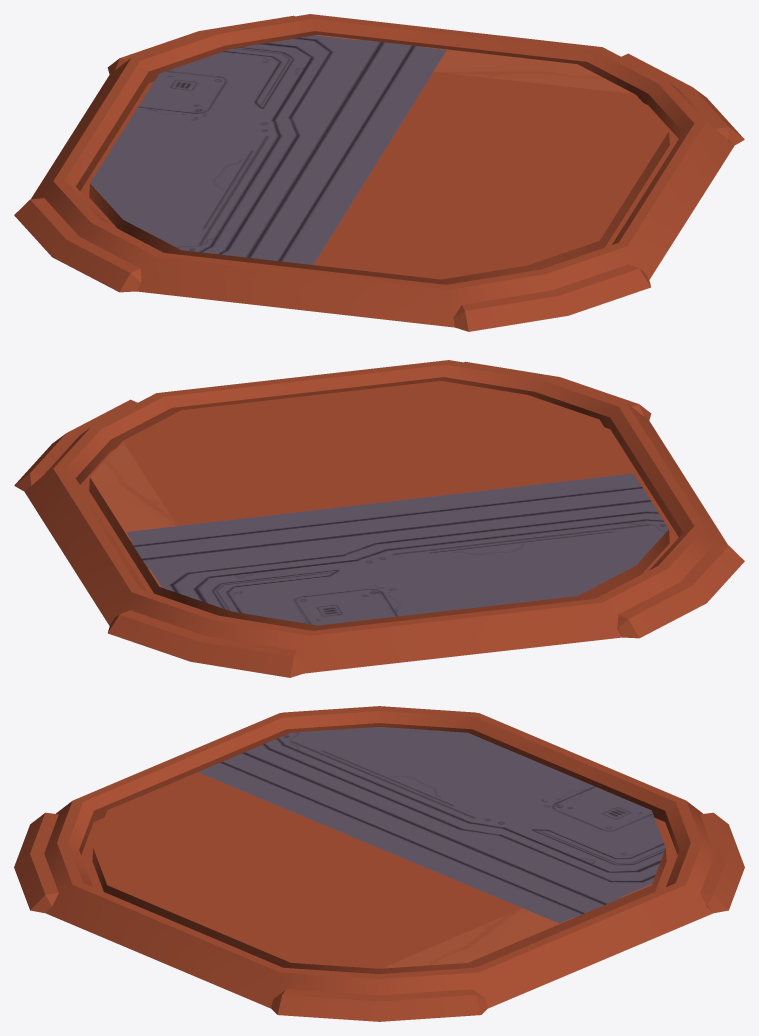
The model's file is LandingPad.fbx.
3 views of the same model, one above another, from view 1: azimuth 30°, elevation 25°; view 2: azimuth 150°, elevation 25°; view 3: azimuth 270°, elevation 25° (orthographic). The views are drawn at different scales.
Visible parts, largest first — view 1: Landing_Pad; view 2: Landing_Pad; view 3: Landing_Pad.
Boxes of the visible parts, box(x1,y1,x2,y2) form: Landing_Pad: box(14, 14, 744, 331); Landing_Pad: box(14, 360, 744, 677); Landing_Pad: box(14, 706, 744, 1021).
Size of the model in its own units: 821 by 821 by 30.81.
